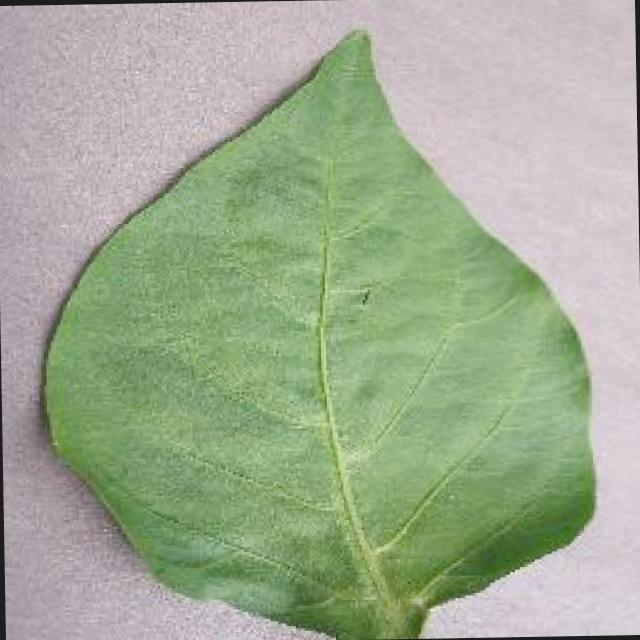Leaf: (34, 21, 616, 622)
